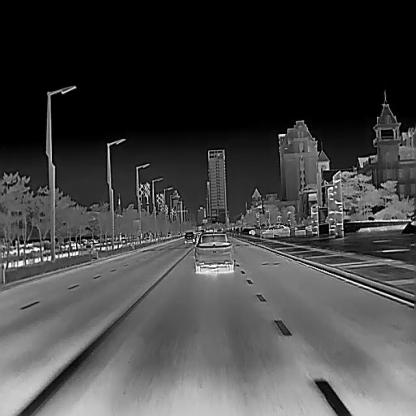car: (193, 232, 233, 272), (261, 224, 290, 236), (248, 226, 267, 236), (183, 231, 193, 243)
